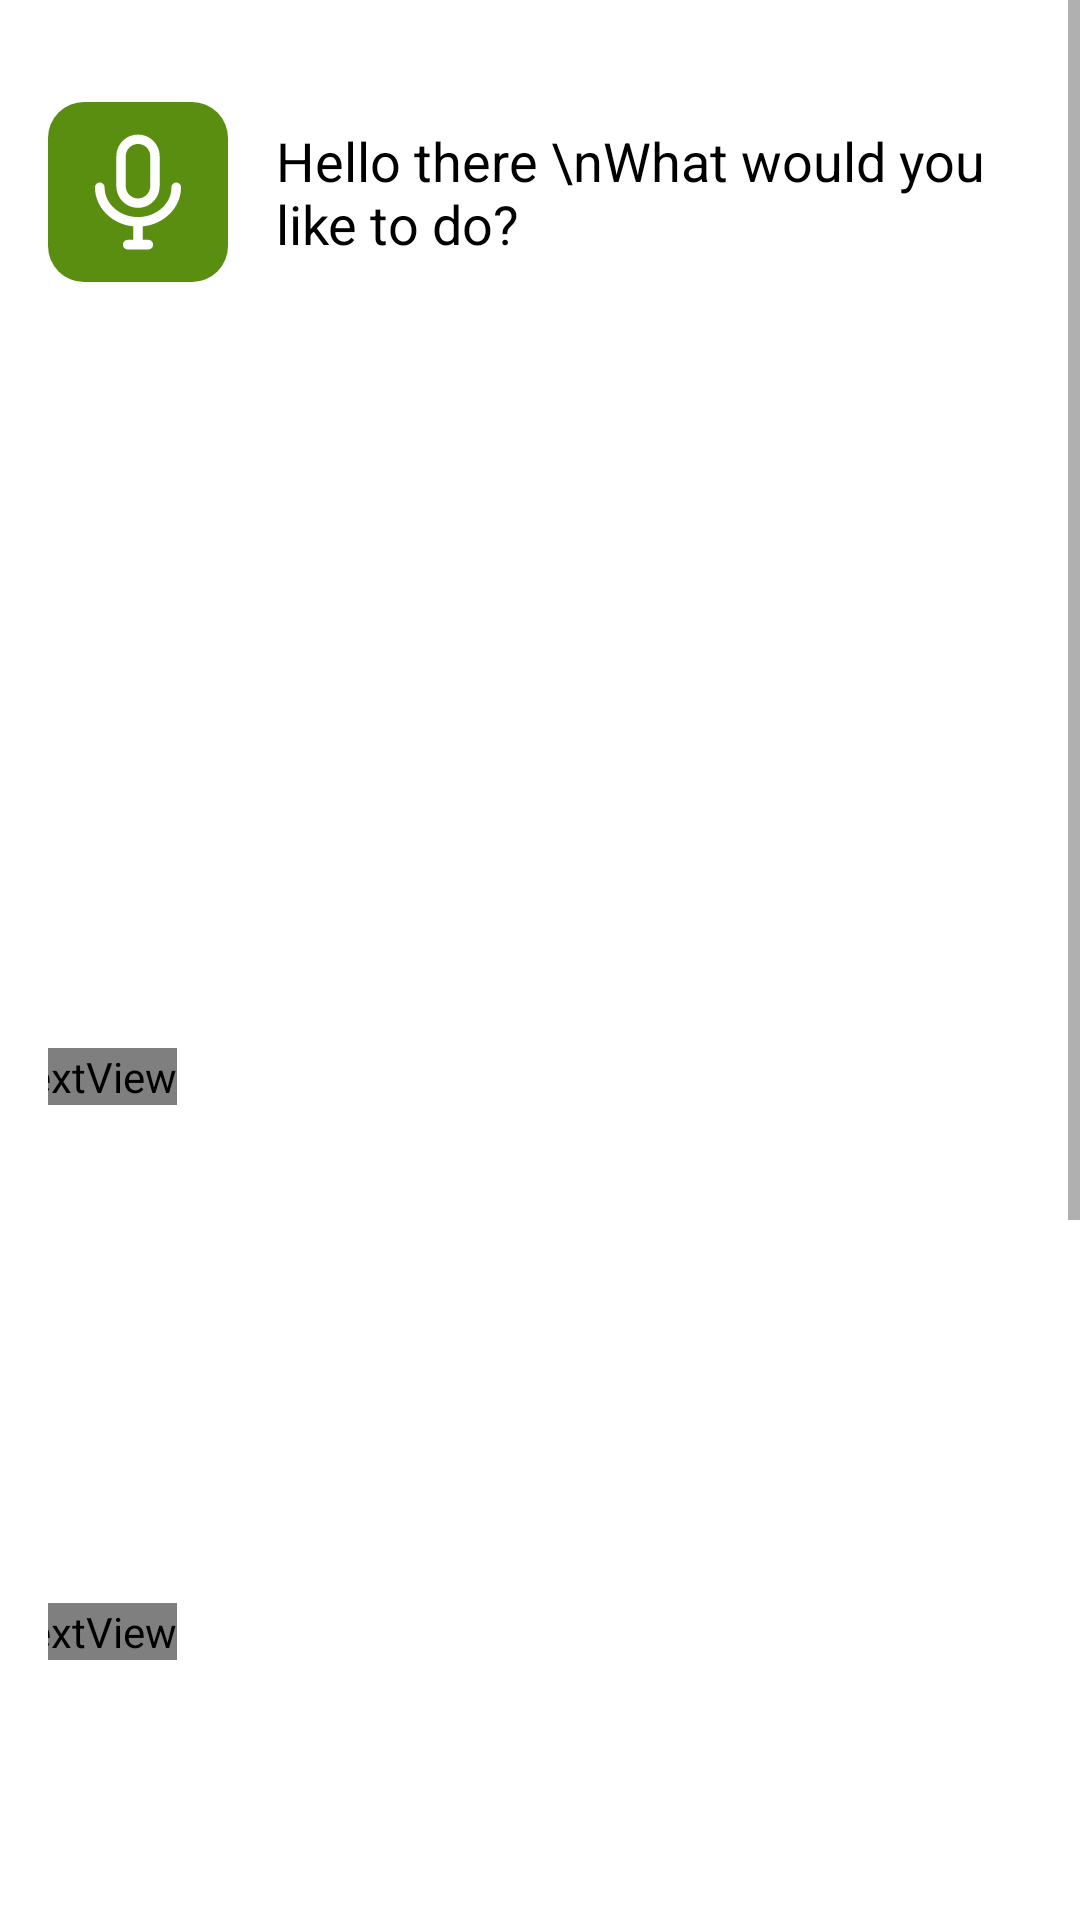

Point at icon controls on the screen. Image size 1080*1920, points as point (x, y).
microphone: point (138, 192)
